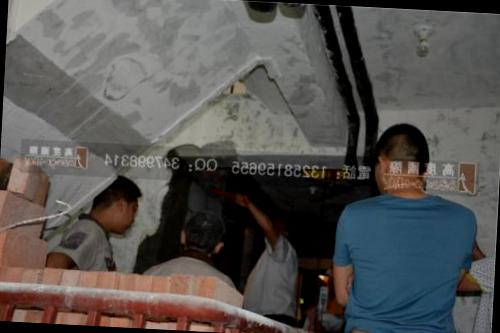no_helmet: (363, 114, 438, 199), (82, 164, 148, 240), (176, 207, 229, 262), (262, 208, 299, 252)
